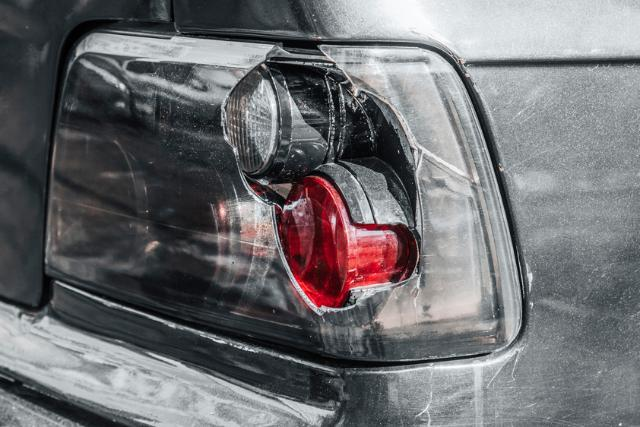Light: (61, 31, 488, 350)
